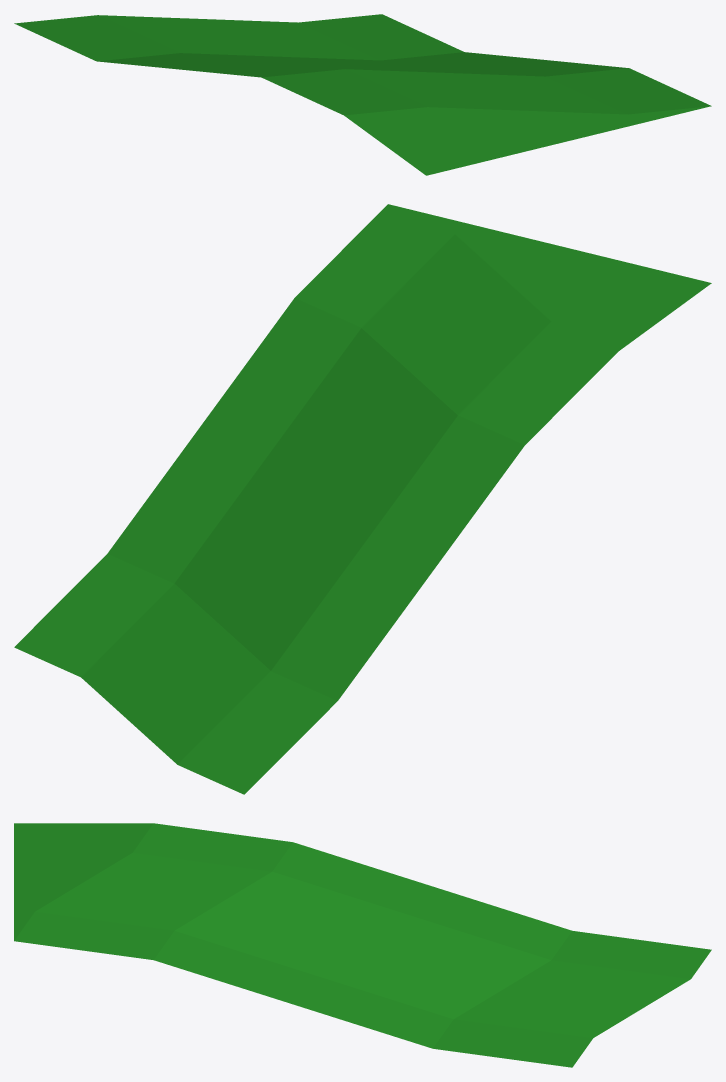
File: Hilly_Terrain_Hill_Side_Shift_Gentle.glb
3 views of the same model, one above another, from view 1: azimuth 30°, elevation 25°; view 2: azimuth 150°, elevation 25°; view 3: azimuth 270°, elevation 25° (orthographic). The views are drawn at different scales.
Parts seen in each view (by area): view 1: Hilly_Terrain_Hill_Side_Shift_Gentle; view 2: Hilly_Terrain_Hill_Side_Shift_Gentle; view 3: Hilly_Terrain_Hill_Side_Shift_Gentle.
Part boxes in pixels (x1,y1,x2,y2): Hilly_Terrain_Hill_Side_Shift_Gentle: [14, 14, 711, 175]; Hilly_Terrain_Hill_Side_Shift_Gentle: [14, 204, 711, 794]; Hilly_Terrain_Hill_Side_Shift_Gentle: [14, 823, 711, 1067].
Size of the model in its own units: 2 by 1 by 5.
